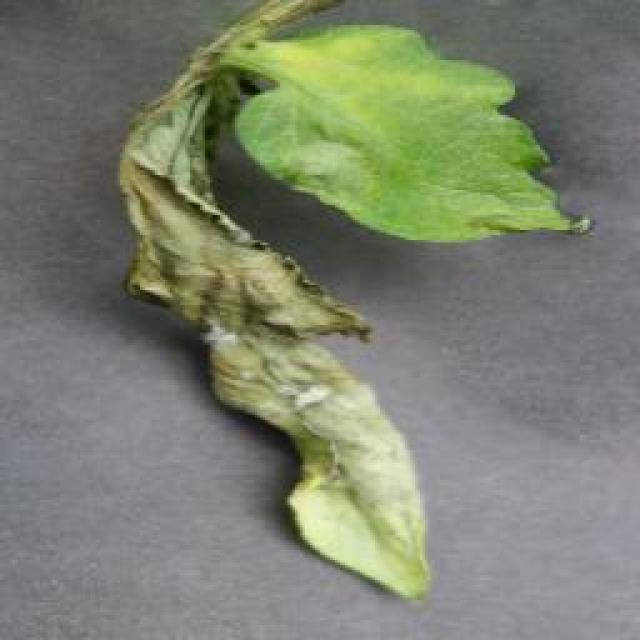Tomato late blight leaf: (115, 64, 435, 598), (232, 22, 600, 246)
